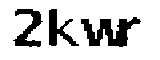2: (9, 4, 44, 51)
k: (47, 5, 80, 51)
r: (120, 16, 143, 51)
w: (79, 12, 120, 52)
